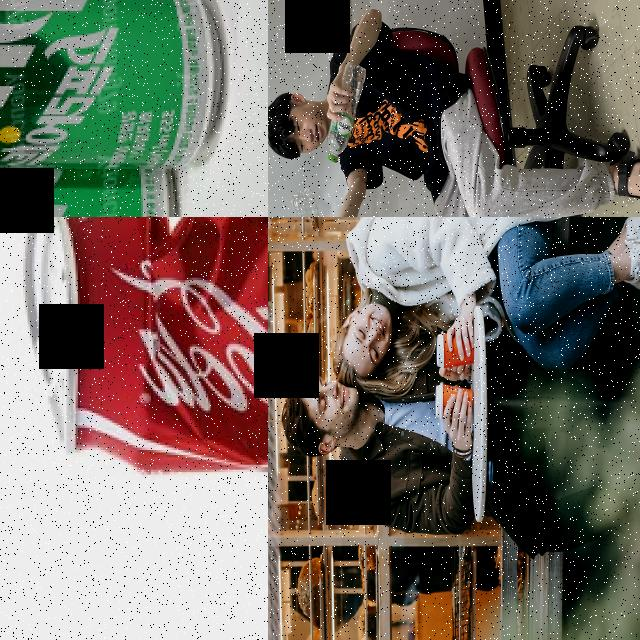bottle: (327, 61, 367, 162), (290, 187, 334, 217)
can: (0, 0, 224, 174), (0, 151, 178, 217)
cup: (436, 330, 474, 370), (436, 381, 474, 420)
